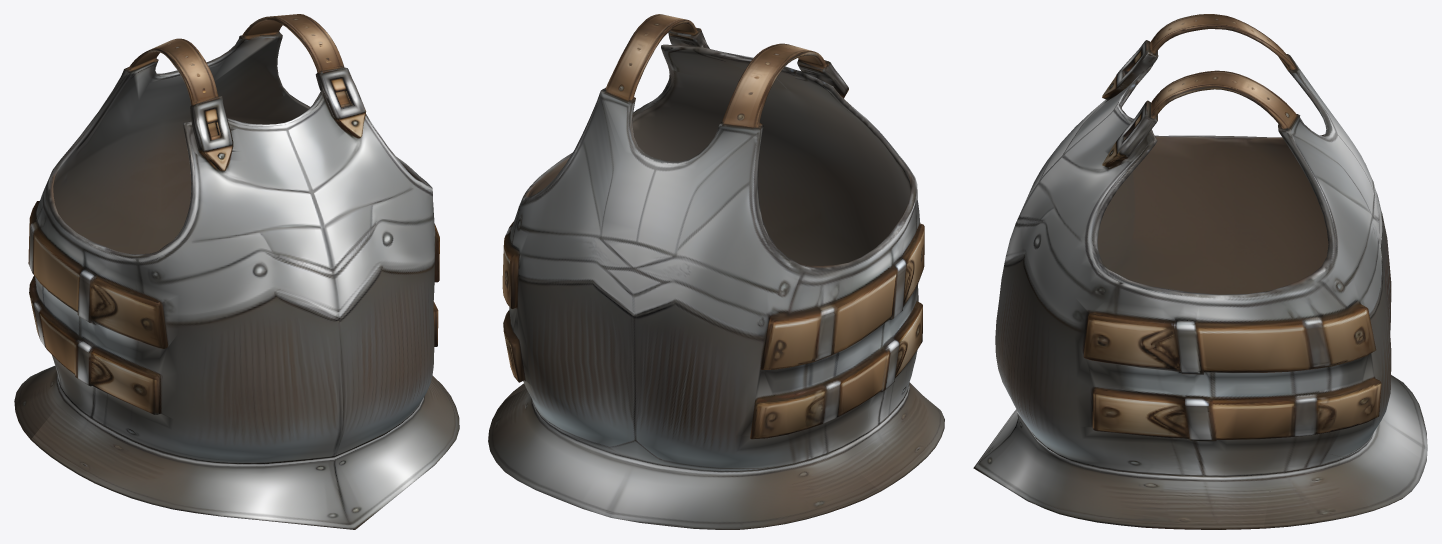
Rendered from EQ_Plate_Armor.fbx.
The picture shows the model from 3 angles, left to right: view 1: azimuth 30°, elevation 25°; view 2: azimuth 150°, elevation 25°; view 3: azimuth 270°, elevation 25°; orthographic projection. The views are drawn at different scales.
Parts seen in each view (by area): view 1: EQ_Plate_Armor; view 2: EQ_Plate_Armor; view 3: EQ_Plate_Armor.
Boxes of the visible parts, x1=… form: EQ_Plate_Armor: x1=14, y1=14, x2=459, y2=529; EQ_Plate_Armor: x1=488, y1=14, x2=944, y2=529; EQ_Plate_Armor: x1=973, y1=14, x2=1427, y2=529.
Size of the model in its own units: 85.54 by 90.84 by 88.72.
Materials: 1 (1 with a texture image).
